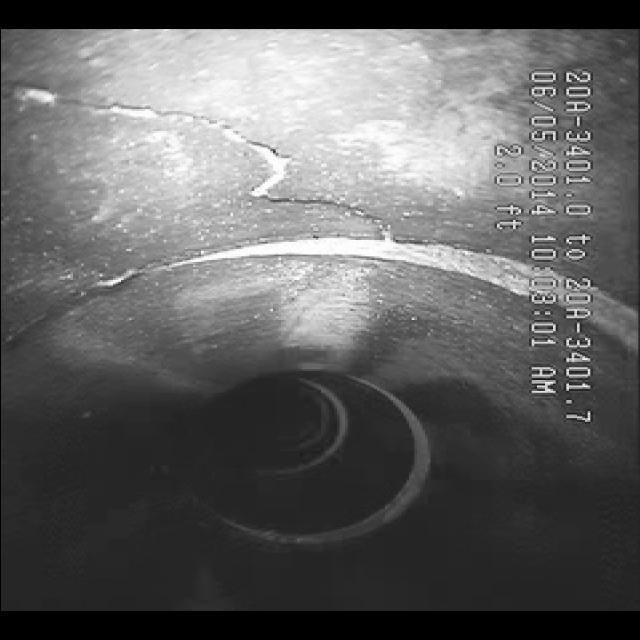Crack: (58, 78, 386, 226)
